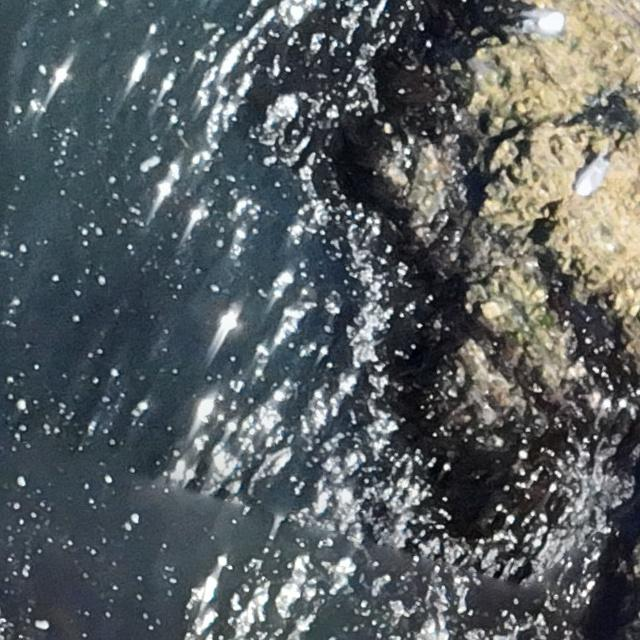umineko: (520, 8, 564, 34), (578, 158, 607, 192)
